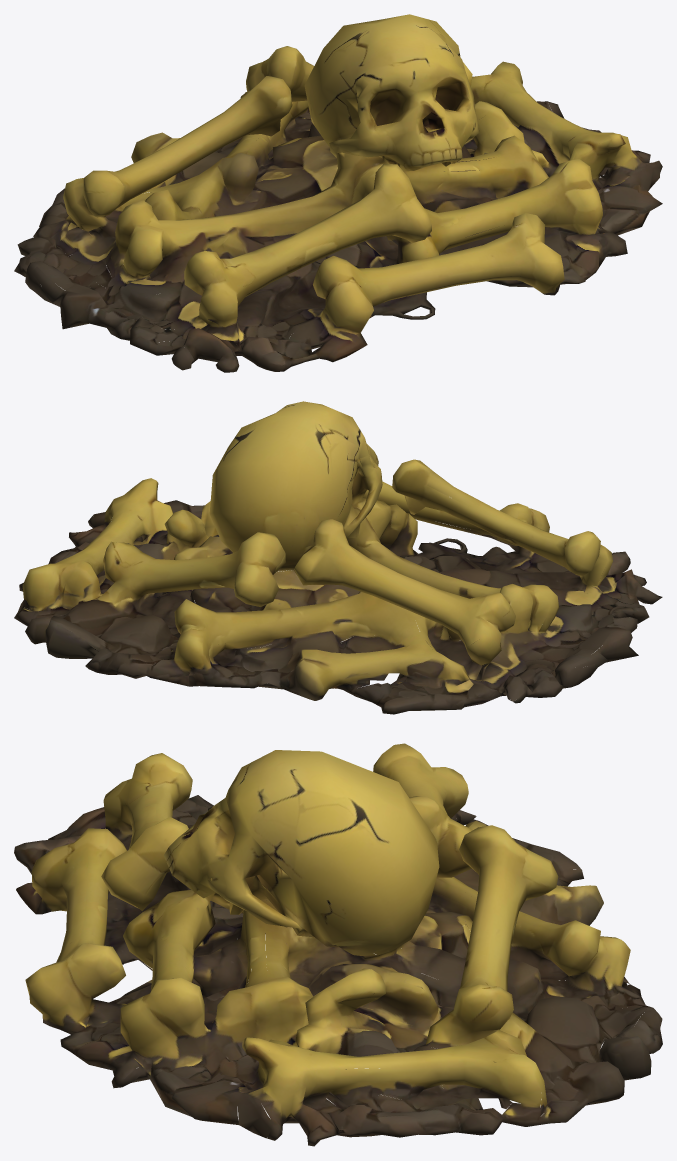
File: bones.glb
The picture shows the model from 3 angles, top to bottom: view 1: azimuth 30°, elevation 25°; view 2: azimuth 150°, elevation 25°; view 3: azimuth 270°, elevation 25°; orthographic projection. The views are drawn at different scales.
Parts seen in each view (by area): view 1: bones; view 2: bones; view 3: bones.
Part boxes in pixels (box(x1,y1,x2,y2)): bones: box(14, 14, 662, 372); bones: box(14, 401, 662, 714); bones: box(14, 743, 662, 1146).
Bounding box in the file's own units: 3.07 × 1 × 2.39.
1 material, 1 textured.
